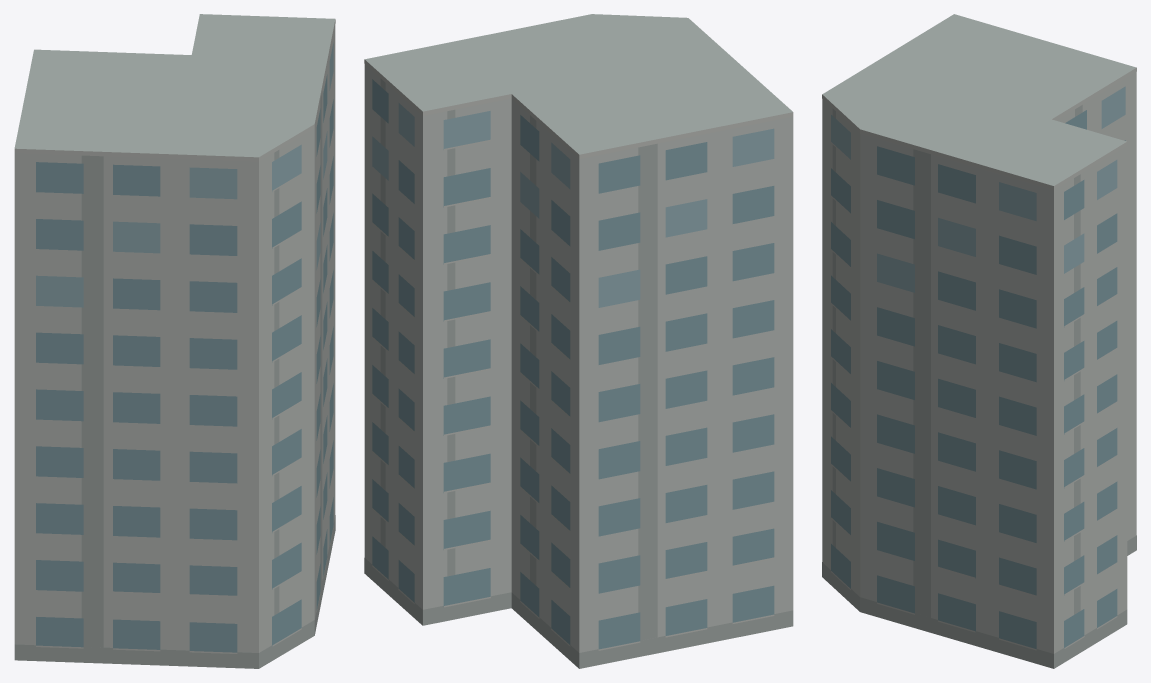
File: residential-878c75e9-ed87-47d2-883c-ef548d96c033.glb
3 views of the same model, side by side, from view 1: azimuth 30°, elevation 25°; view 2: azimuth 150°, elevation 25°; view 3: azimuth 270°, elevation 25° (orthographic). The views are drawn at different scales.
Visible parts, largest first — view 1: residential-878c75e9-ed87-47d2-883c-ef548d96c033.tmp; view 2: residential-878c75e9-ed87-47d2-883c-ef548d96c033.tmp; view 3: residential-878c75e9-ed87-47d2-883c-ef548d96c033.tmp.
Boxes of the visible parts, bbox=[...] form: residential-878c75e9-ed87-47d2-883c-ef548d96c033.tmp: bbox=[14, 14, 335, 668]; residential-878c75e9-ed87-47d2-883c-ef548d96c033.tmp: bbox=[364, 14, 793, 668]; residential-878c75e9-ed87-47d2-883c-ef548d96c033.tmp: bbox=[822, 14, 1136, 668].
Bounding box in the file's own units: 21.42 × 28 × 16.54.
